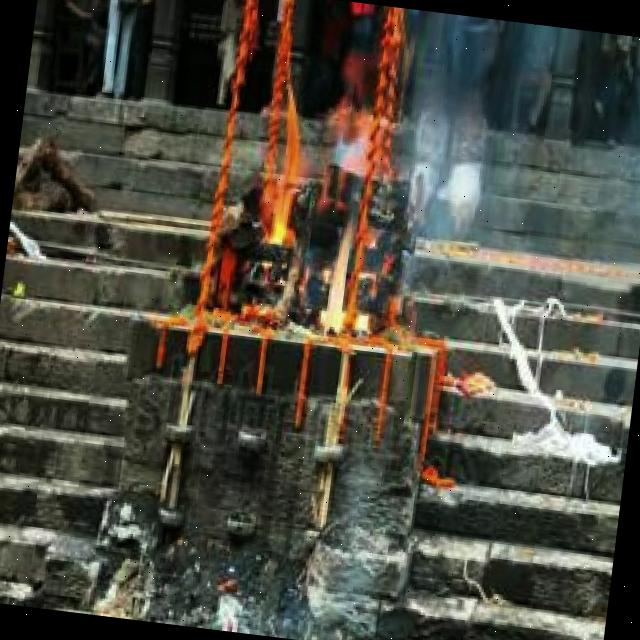fire: (240, 95, 390, 346)
